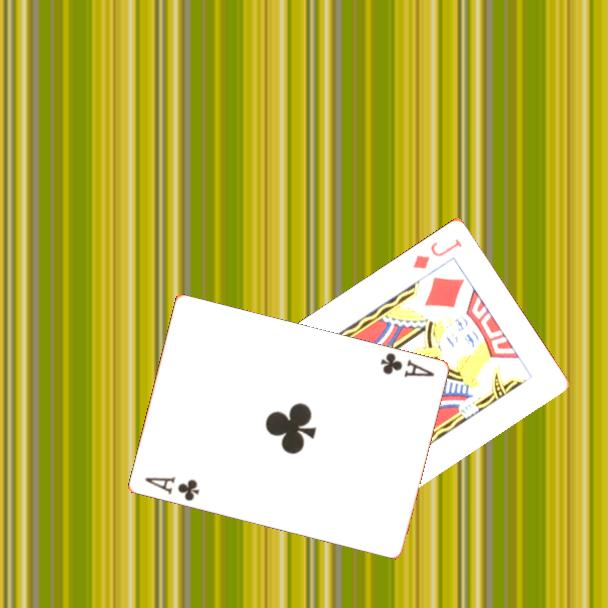c01: (141, 473, 202, 504), (376, 349, 437, 380)
d11: (409, 235, 465, 271)
